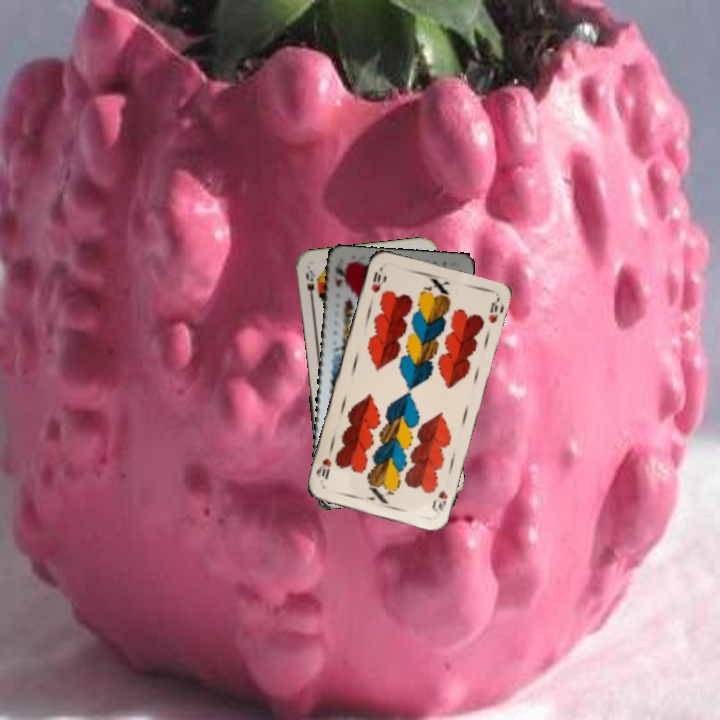H10: (428, 486, 450, 518), (367, 268, 384, 295)
HK: (331, 260, 348, 290)
SO: (302, 266, 317, 305)
